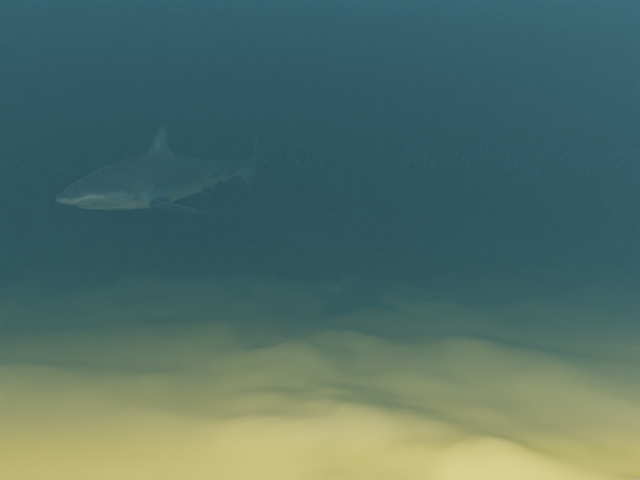Carribean Shark.001: (55, 120, 263, 215)
